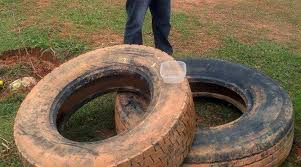tire: (15, 45, 196, 167), (113, 57, 295, 165)
